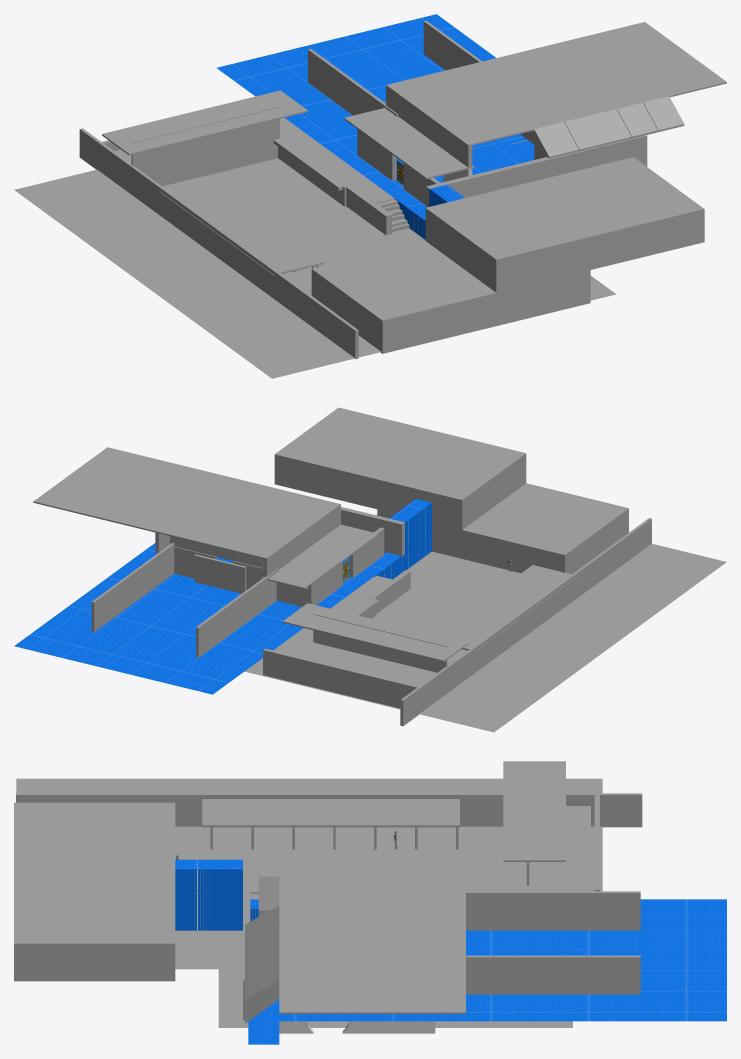
Rendered from Villa_Map.fbx.
3 renders of one model, top to bottom at view 1: azimuth 30°, elevation 25°; view 2: azimuth 150°, elevation 25°; view 3: azimuth 270°, elevation 25°, orthographic. The views are drawn at different scales.
Visible parts, largest first — view 1: polySurface2, Third_Area, pCube10, pCube46, pPlane1, pCube44, pCube54, pCube39, pCube56, pCube9, pCube29, pCube8 (+12 smaller); view 2: polySurface2, pPlane1, pCube10, Third_Area, pCube46, pCube44, pCube56, pCube39, pCube30, pCube8, pCube28, pCube29 (+9 smaller); view 3: pPlane1, pCube10, Third_Area, polySurface2, pCube44, pCube39, pCube27, pCube28, pCube56, pCube46, pCube30, pPlane2 (+10 smaller).
Boxes of the visible parts, x1,y1,x2,y2 form: polySurface2: [14, 158, 616, 378]; Third_Area: [425, 157, 704, 292]; pCube10: [386, 22, 726, 167]; pCube46: [311, 241, 590, 353]; pPlane1: [216, 14, 534, 239]; pCube44: [79, 128, 358, 359]; pCube54: [131, 106, 279, 186]; pCube39: [159, 179, 323, 276]; pCube56: [102, 90, 307, 155]; pCube9: [426, 135, 647, 207]; pCube29: [250, 196, 377, 267]; pCube8: [344, 108, 473, 179]; polySurface2: [244, 514, 726, 732]; pPlane1: [14, 499, 431, 694]; pCube10: [33, 447, 340, 577]; Third_Area: [274, 407, 526, 529]; pCube46: [377, 483, 628, 574]; pCube44: [263, 518, 651, 726]; pCube56: [282, 603, 468, 661]; pCube39: [437, 565, 578, 652]; pCube30: [273, 577, 436, 685]; pCube8: [261, 524, 378, 589]; pCube28: [91, 543, 174, 632]; pCube29: [392, 580, 495, 634]; pPlane1: [175, 859, 726, 1044]; pCube10: [279, 869, 465, 1013]; Third_Area: [14, 828, 175, 981]; polySurface2: [16, 778, 602, 969]; pCube44: [16, 793, 642, 891]; pCube39: [202, 799, 459, 827]; pCube27: [466, 891, 640, 930]; pCube28: [466, 955, 640, 994]; pCube56: [503, 761, 565, 861]; pCube46: [14, 802, 175, 828]; pCube30: [466, 806, 590, 891]; pPlane2: [218, 969, 572, 1027].
Size of the model in its own units: 6717 by 953 by 6398.
